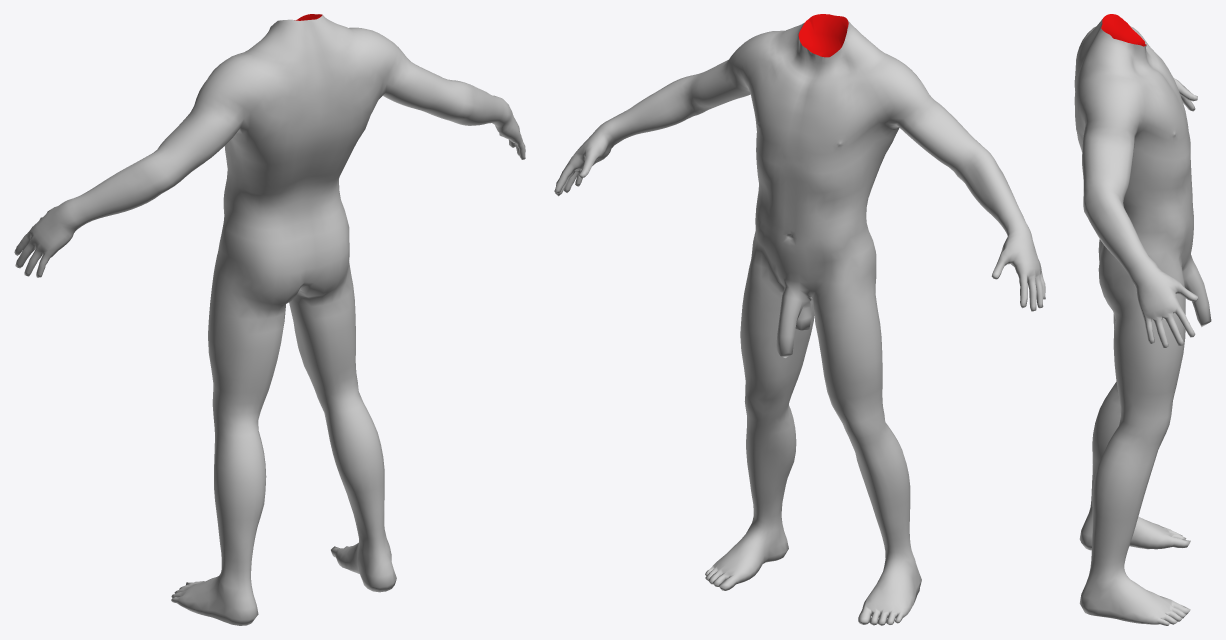
File: MainCharacter_Refrence.fbx
The picture shows the model from 3 angles, left to right: view 1: azimuth 30°, elevation 25°; view 2: azimuth 150°, elevation 25°; view 3: azimuth 270°, elevation 25°; orthographic projection. The views are drawn at different scales.
Parts seen in each view (by area): view 1: MainCharacter_1; view 2: MainCharacter_1; view 3: MainCharacter_1.
Part boxes in pixels (x1,y1,x2,y2): MainCharacter_1: [14, 14, 525, 625]; MainCharacter_1: [554, 14, 1045, 625]; MainCharacter_1: [1074, 14, 1211, 625].
Size of the model in its own units: 152 by 170 by 37.79.
